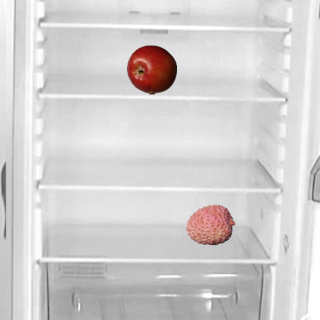Apple Braeburn: (126, 44, 176, 94)
Lychee: (185, 199, 235, 249)
